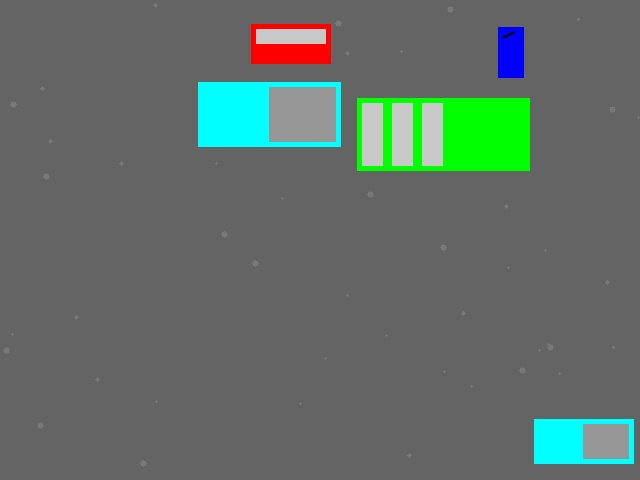bus: (357, 98, 529, 170)
car: (251, 24, 330, 63)
motorcycle: (498, 27, 523, 77)
truck: (198, 82, 340, 146), (534, 419, 633, 463)
